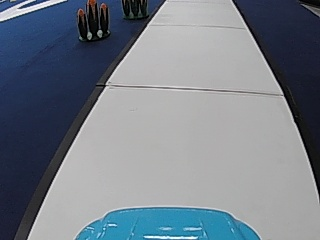corn: (75, 0, 111, 40), (121, 0, 149, 20)
